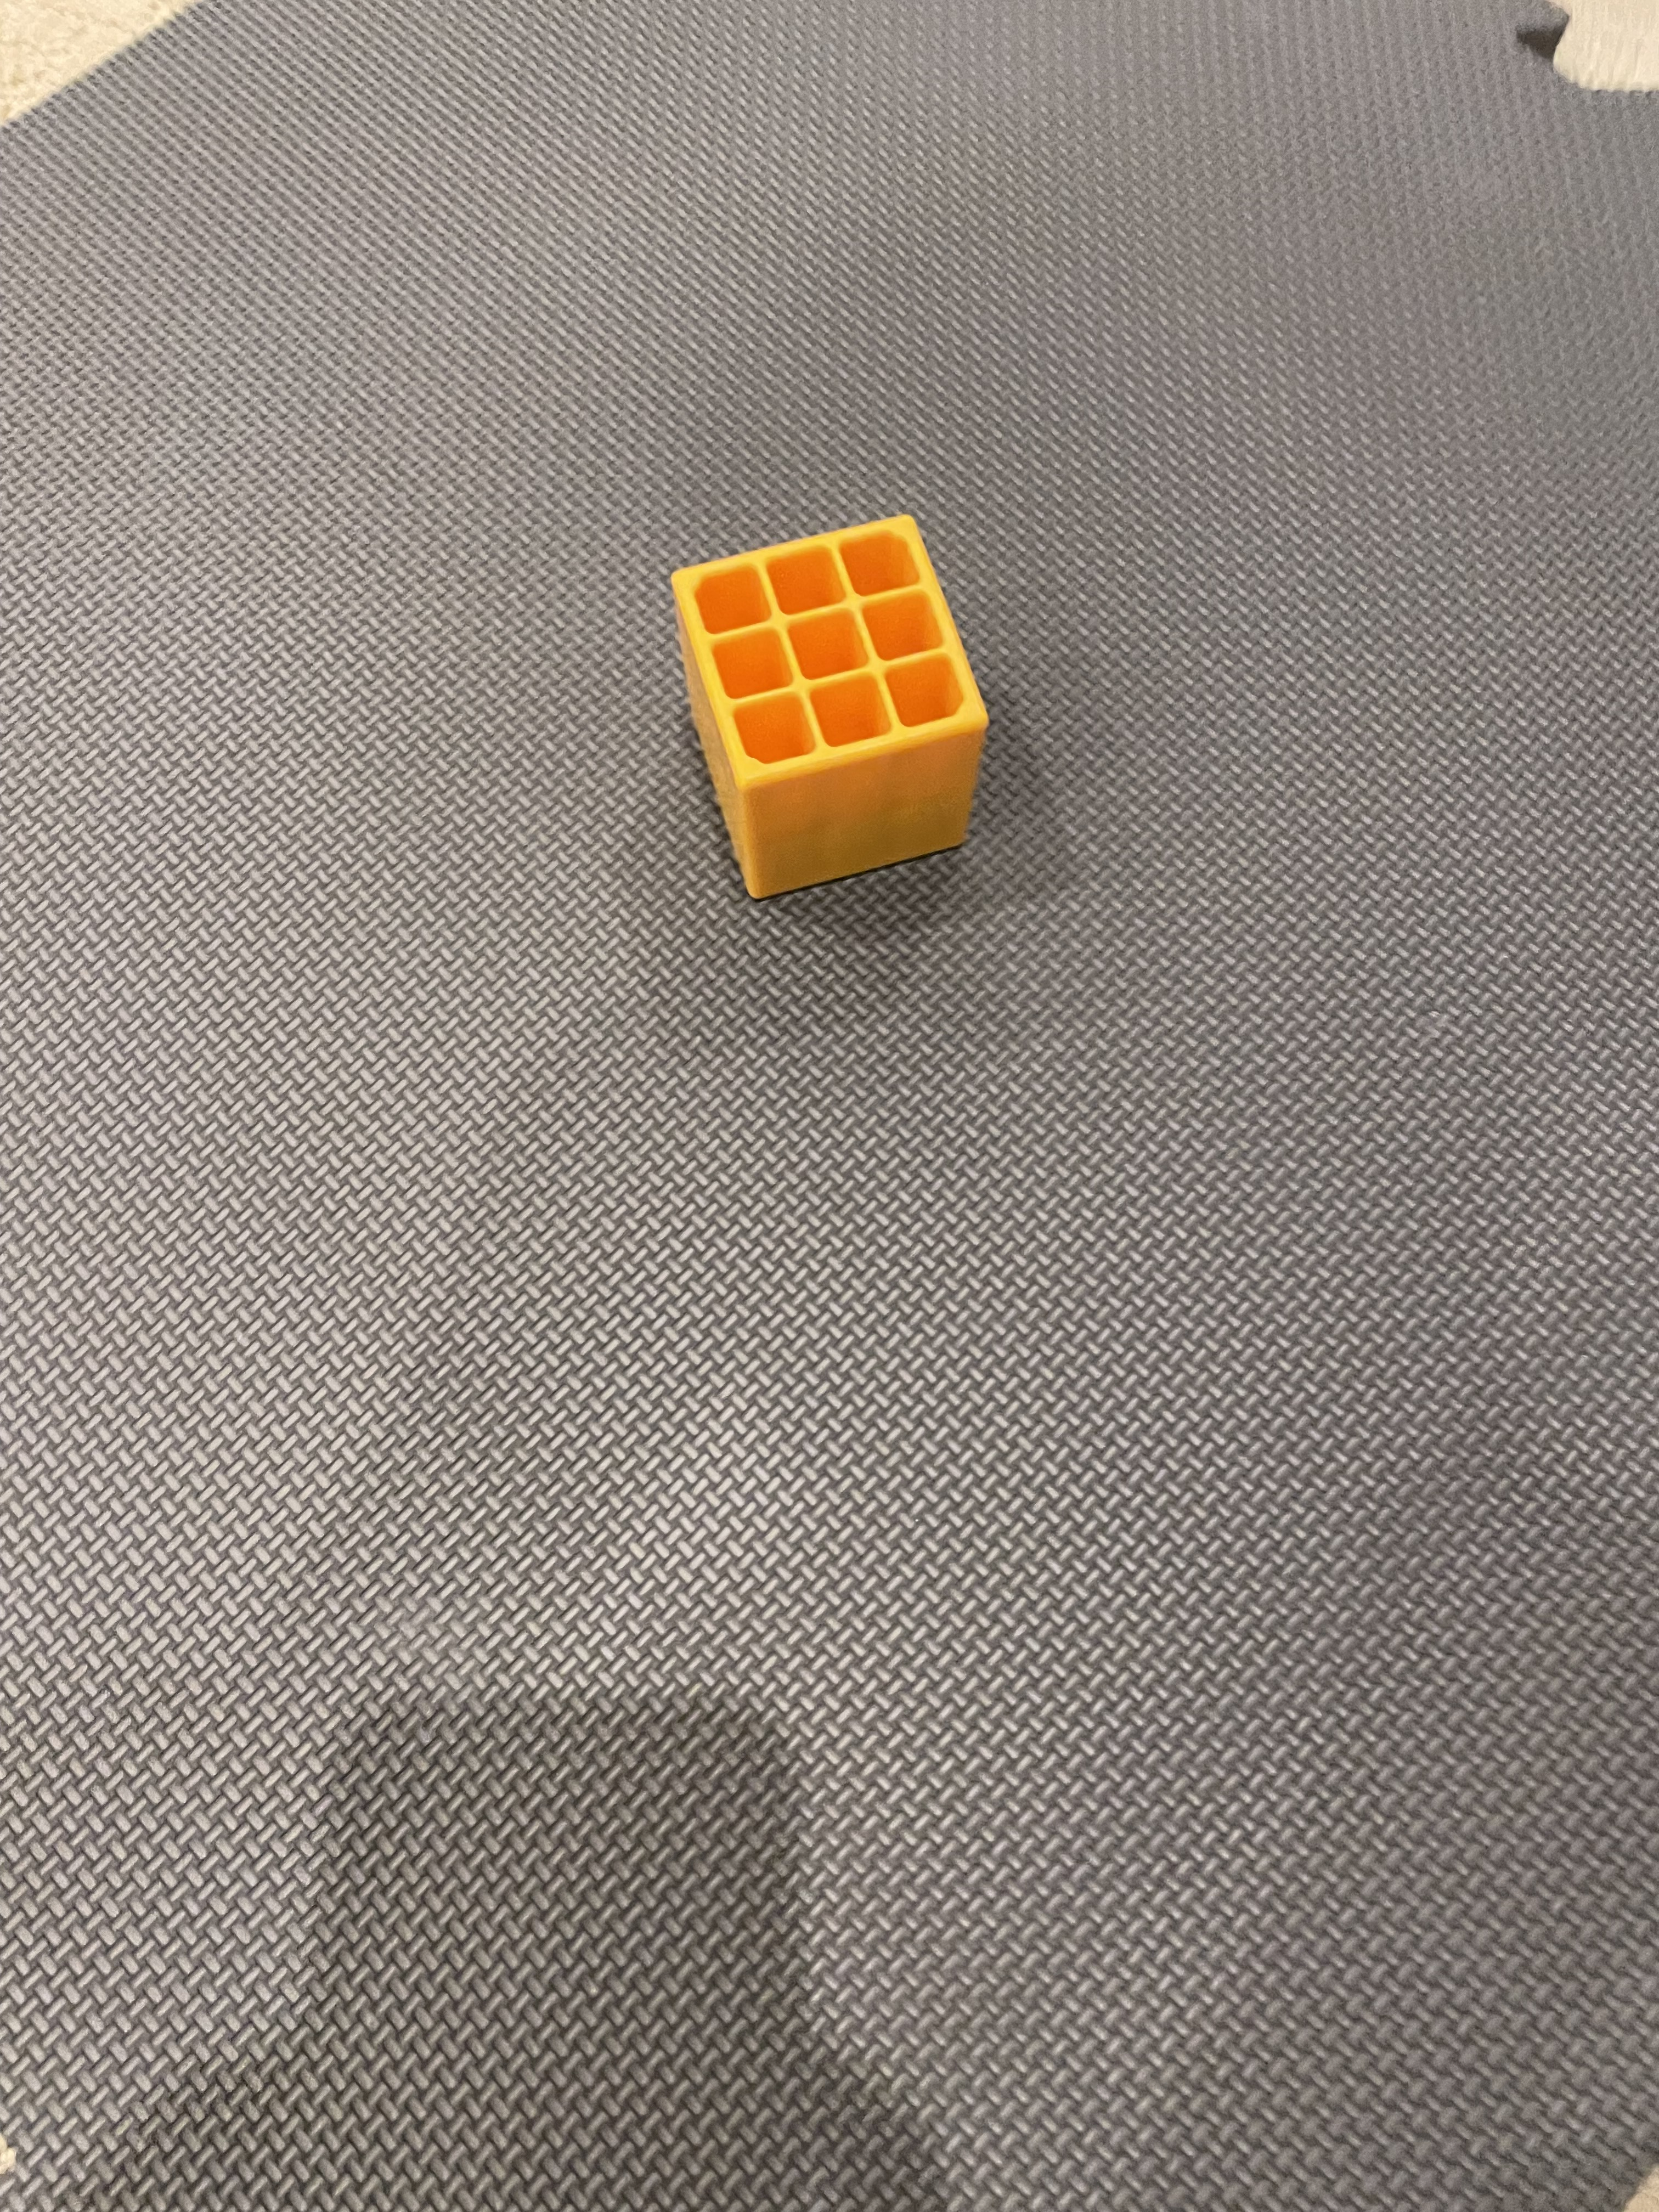cube: (598, 455, 1028, 961)
